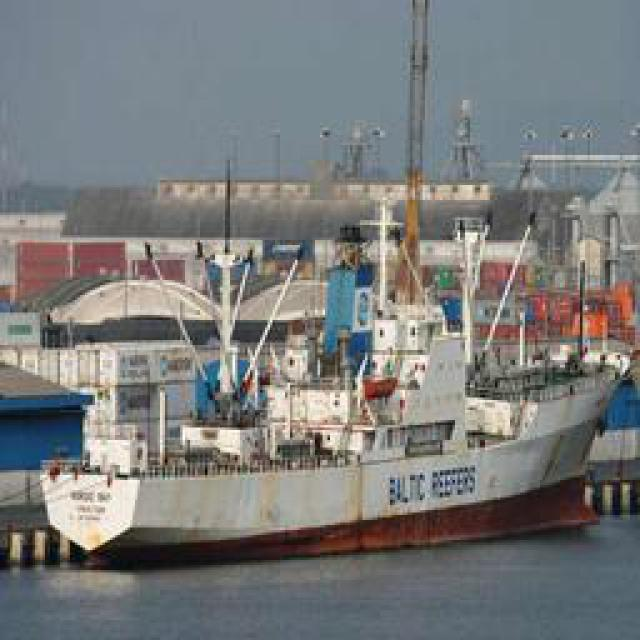Ship: (21, 150, 611, 570)
